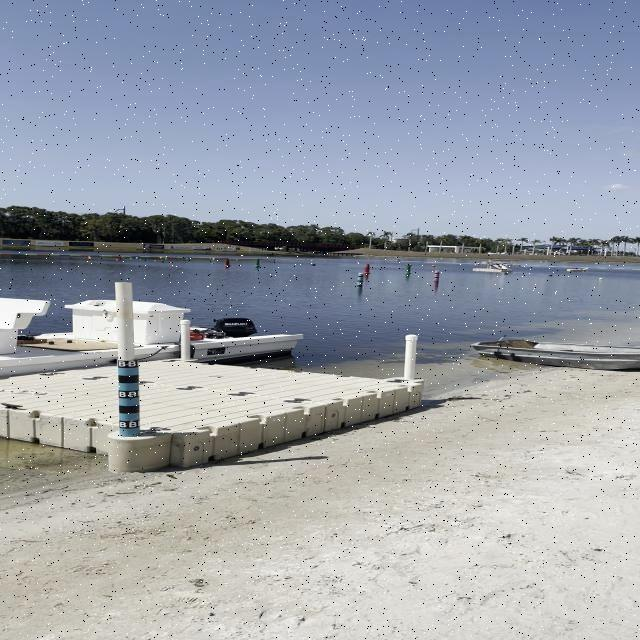buoy: (310, 262, 318, 266)
